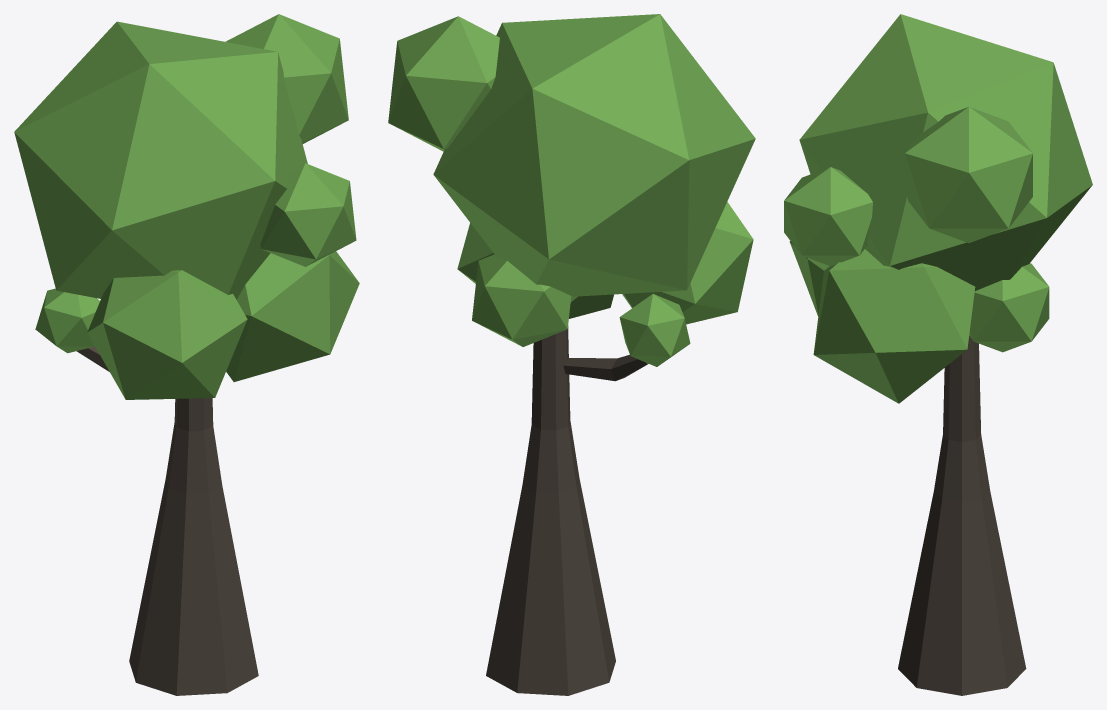
File: tree.glb
3 views of the same model, side by side, from view 1: azimuth 30°, elevation 25°; view 2: azimuth 150°, elevation 25°; view 3: azimuth 270°, elevation 25° (orthographic). The views are drawn at different scales.
Visible parts, largest first — view 1: Cylinder-col; view 2: Cylinder-col; view 3: Cylinder-col.
Boxes of the visible parts, box(x1,y1,x2,y2) form: Cylinder-col: box(14, 14, 359, 695); Cylinder-col: box(388, 14, 755, 695); Cylinder-col: box(784, 14, 1092, 695).
Bounding box in the file's own units: 4.52 × 9.07 × 4.1.
